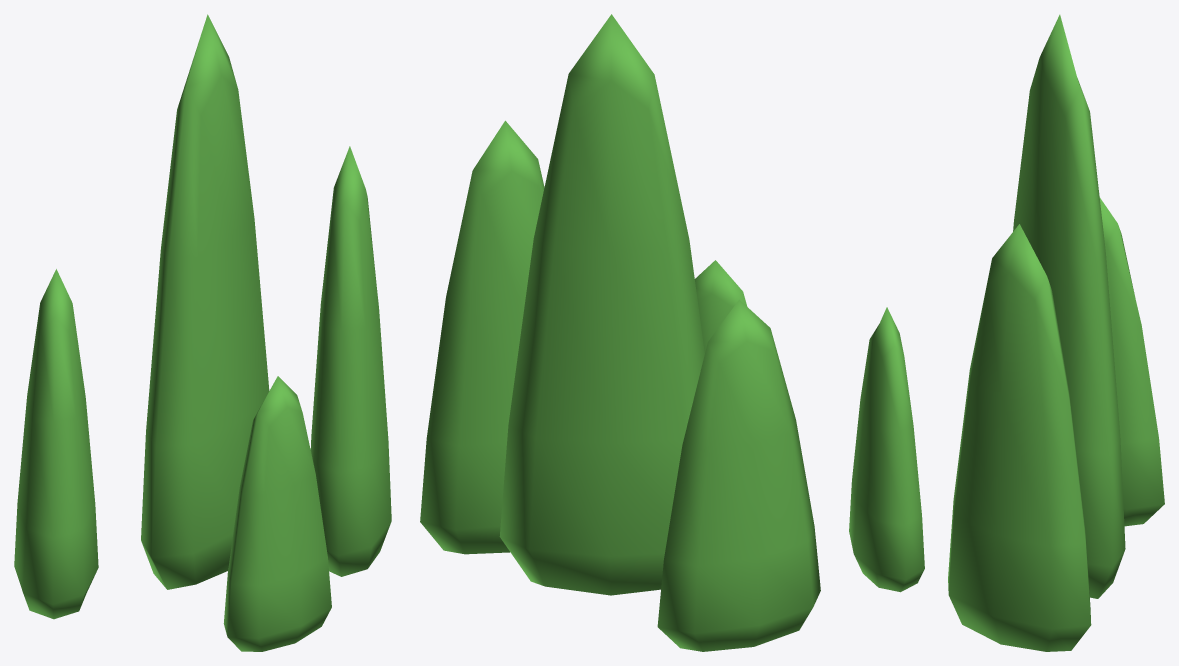
File: LowPolyGrass.fbx
3 views of the same model, side by side, from view 1: azimuth 30°, elevation 25°; view 2: azimuth 150°, elevation 25°; view 3: azimuth 270°, elevation 25° (orthographic). The views are drawn at different scales.
Parts seen in each view (by area): view 1: Grass_3; view 2: Grass_3; view 3: Grass_3.
Boxes of the visible parts, x1,y1,x2,y2 form: Grass_3: (14,14,391,651); Grass_3: (420,14,820,651); Grass_3: (849,14,1164,651).
Size of the model in its own units: 11.41 by 16.71 by 8.39.
